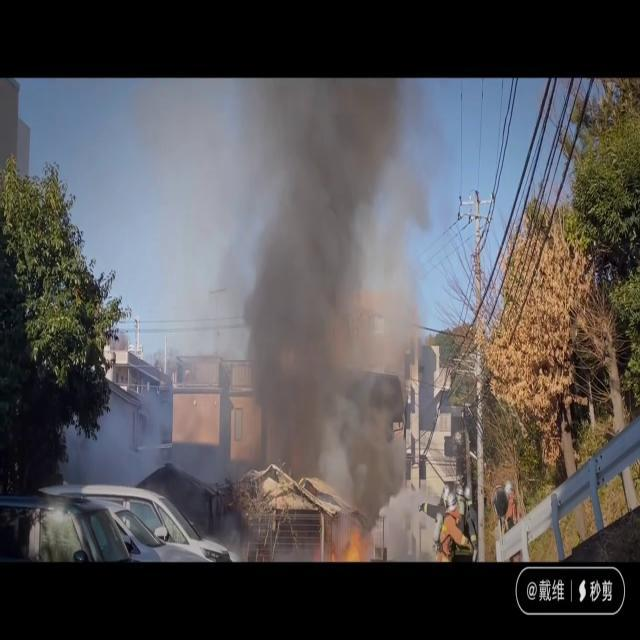Smoke: (226, 78, 440, 547)
